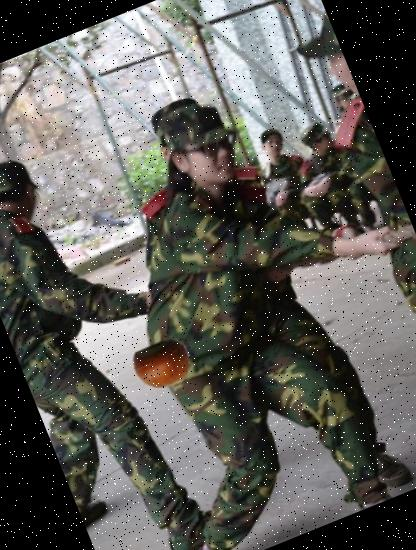Nut: (126, 328, 200, 401)
